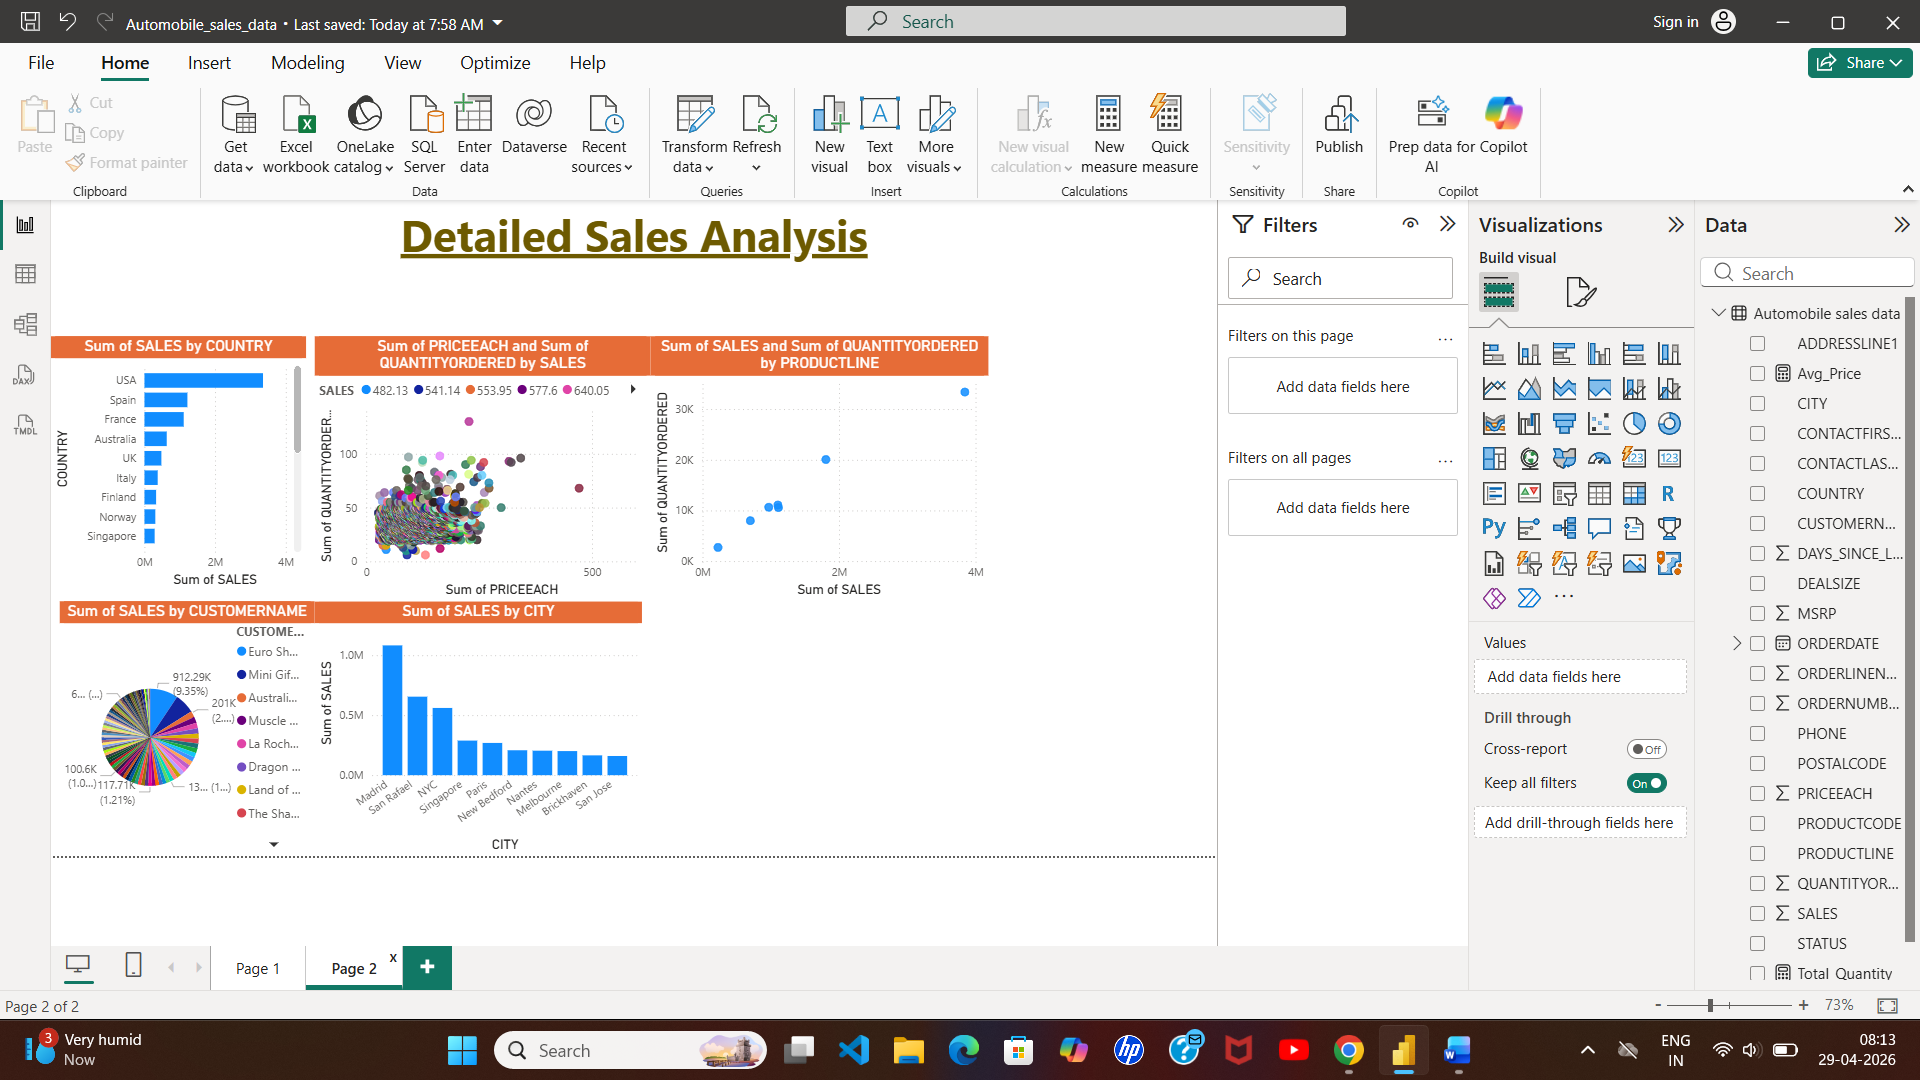

What the dashboard file says about the page in this screenshot:
{"tool":"powerbi","page":{"name":"Page 2","canvas":[1280,720],"ordinal":1},"visuals":[{"type":"clusteredBarChart","fields":{"Category":["Automobile sales data.COUNTRY"],"Y":["Sum(Automobile sales data.SALES)"]},"box":[0,149.6,279.9,279.9],"z":0},{"type":"pieChart","fields":{"Category":["Automobile sales data.CUSTOMERNAME"],"Y":["Sum(Automobile sales data.SALES)"]},"box":[9.6,440.5,279.9,279.9],"z":1000},{"type":"clusteredColumnChart","fields":{"Category":["Automobile sales data.CITY"],"Y":["Sum(Automobile sales data.SALES)"]},"box":[289.5,440.5,359.5,279.9],"z":2000},{"type":"scatterChart","fields":{"X":["Sum(Automobile sales data.PRICEEACH)"],"Y":["Sum(Automobile sales data.QUANTITYORDERED)"],"Series":["Automobile sales data.SALES"]},"box":[289.5,149.6,369.1,290.9],"z":3000},{"type":"scatterChart","fields":{"X":["Sum(Automobile sales data.SALES)"],"Y":["Sum(Automobile sales data.QUANTITYORDERED)"],"Category":["Automobile sales data.PRODUCTLINE"]},"box":[658.7,149.6,370.5,290.9],"z":4000},{"type":"textbox","box":[0,0,1280.3,129],"z":5000}]}

Visuals, with their boxes on the page's 1280x720 design canvas (x1, y1, x2, y2). These are canvas units, not pixel positions in the 1920x1080 screenshot, which may show the page scaled, cropped or inside an application window:
clusteredBarChart - Automobile sales data.COUNTRY x Sum(Automobile sales data.SALES): 0 150 280 430
pieChart - Automobile sales data.CUSTOMERNAME x Sum(Automobile sales data.SALES): 10 440 290 720
clusteredColumnChart - Automobile sales data.CITY x Sum(Automobile sales data.SALES): 290 440 649 720
scatterChart - Sum(Automobile sales data.PRICEEACH) x Sum(Automobile sales data.QUANTITYORDERED): 290 150 659 440
scatterChart - Sum(Automobile sales data.SALES) x Sum(Automobile sales data.QUANTITYORDERED): 659 150 1029 440
textbox: 0 0 1280 129
